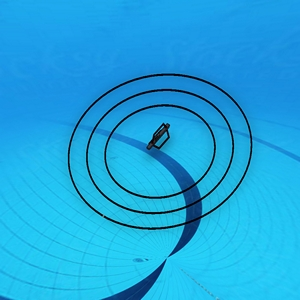circle: (67, 73, 255, 230)
submarine: (147, 123, 169, 153)
